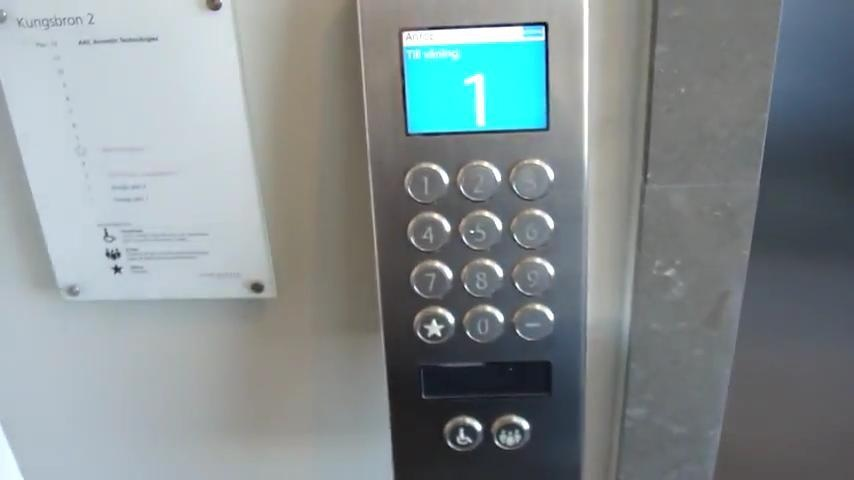-: (511, 303, 556, 342)
0: (462, 304, 506, 344)
1: (403, 161, 449, 204)
2: (457, 160, 501, 202)
4: (406, 212, 452, 253)
5: (457, 210, 502, 250)
6: (510, 209, 555, 249)
7: (409, 258, 454, 299)
8: (461, 259, 503, 299)
9: (511, 257, 555, 298)
CH: (442, 414, 484, 454)
blur: (509, 157, 556, 201)
led: (399, 22, 551, 136), (417, 360, 554, 399)
s: (412, 305, 457, 345)
unknown: (491, 414, 532, 452)
